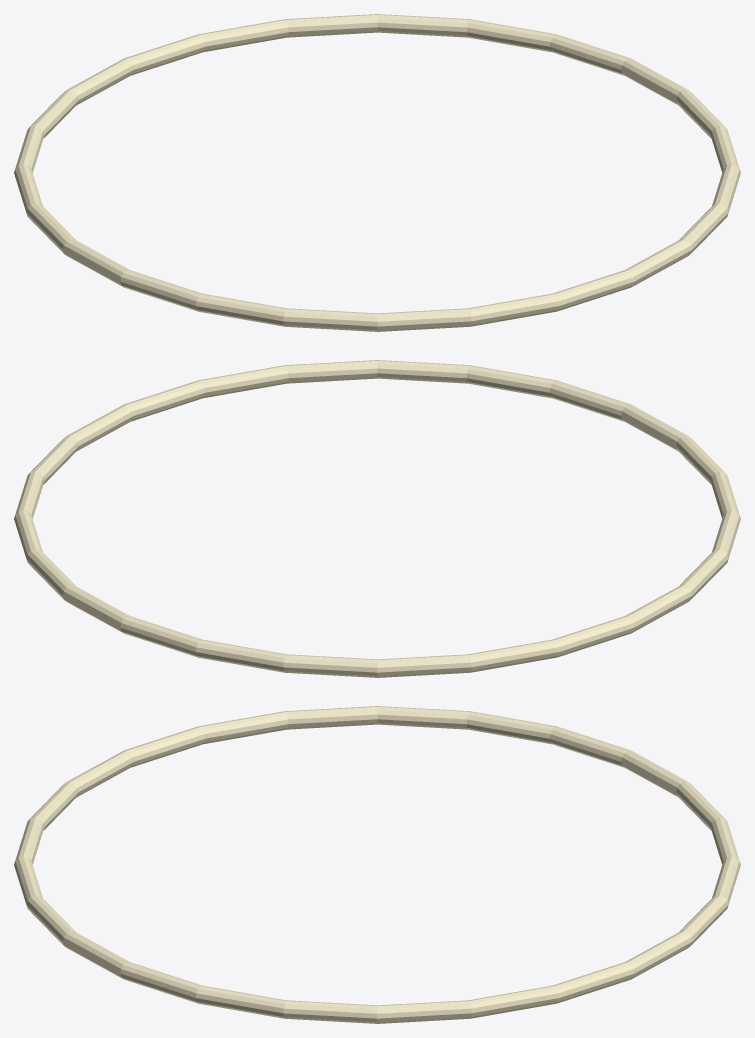
The picture shows the model from 3 angles, top to bottom: view 1: azimuth 30°, elevation 25°; view 2: azimuth 150°, elevation 25°; view 3: azimuth 270°, elevation 25°; orthographic projection.
Parts seen in each view (by area): view 1: y; view 2: y; view 3: y.
Part boxes in pixels (x1,y1,x2,y2): y: [14, 14, 740, 331]; y: [14, 360, 740, 677]; y: [14, 706, 740, 1023].
Size of the model in its own units: 2 by 2 by 0.0514.
